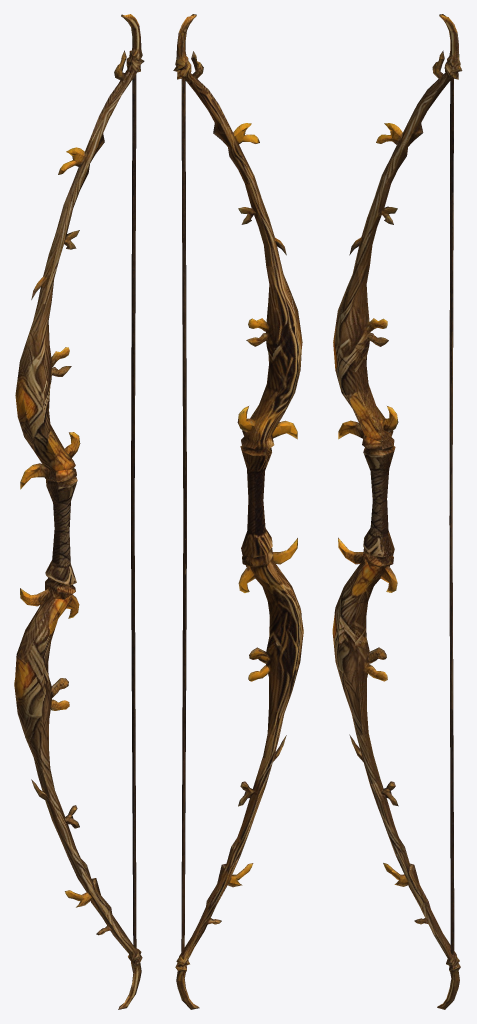
The model's file is amberwood_longbow.glb.
3 renders of one model, left to right at view 1: azimuth 30°, elevation 25°; view 2: azimuth 210°, elevation 25°; view 3: azimuth 330°, elevation 25°, orthographic.
Visible parts, largest first — view 1: Amberwood Yew Longbow; view 2: Amberwood Yew Longbow; view 3: Amberwood Yew Longbow.
Part boxes in pixels (x1=…): Amberwood Yew Longbow: x1=14, y1=14, x2=144, y2=1009; Amberwood Yew Longbow: x1=173, y1=14, x2=303, y2=1009; Amberwood Yew Longbow: x1=332, y1=14, x2=462, y2=1009.
Bounding box in the file's own units: 0.1701 × 1.24 × 0.0495.
1 material, 1 textured.
